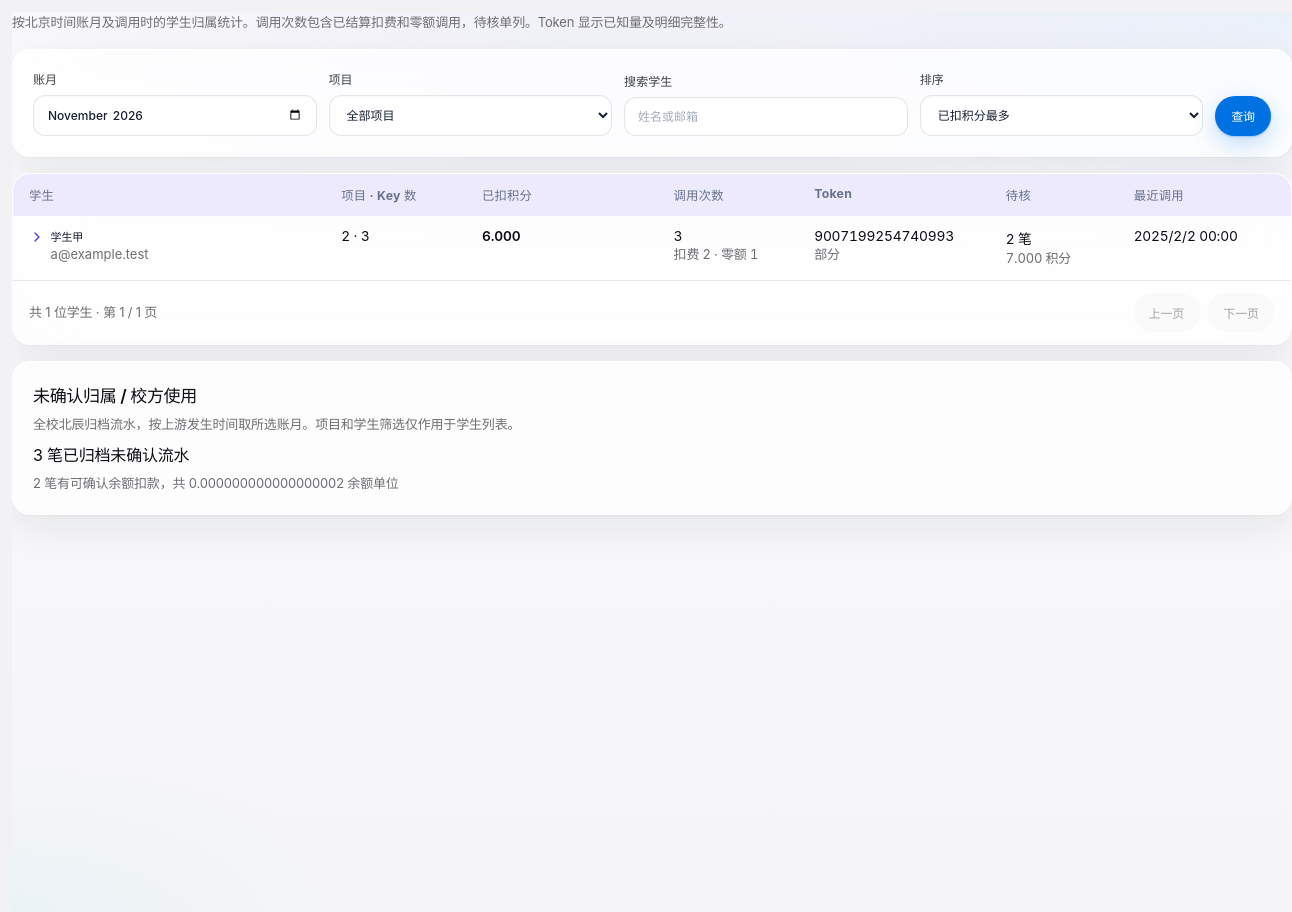
Test case: 先显示两项目的三把 Key，共用的模型仍各自计费，60 秒后刷新列表和展开的明细
The image size is (1292, 912).
Click the button with class "student-button".
click(67, 237)  # box x1=29 y1=228 x2=324 y2=264
Wait 60000 ms
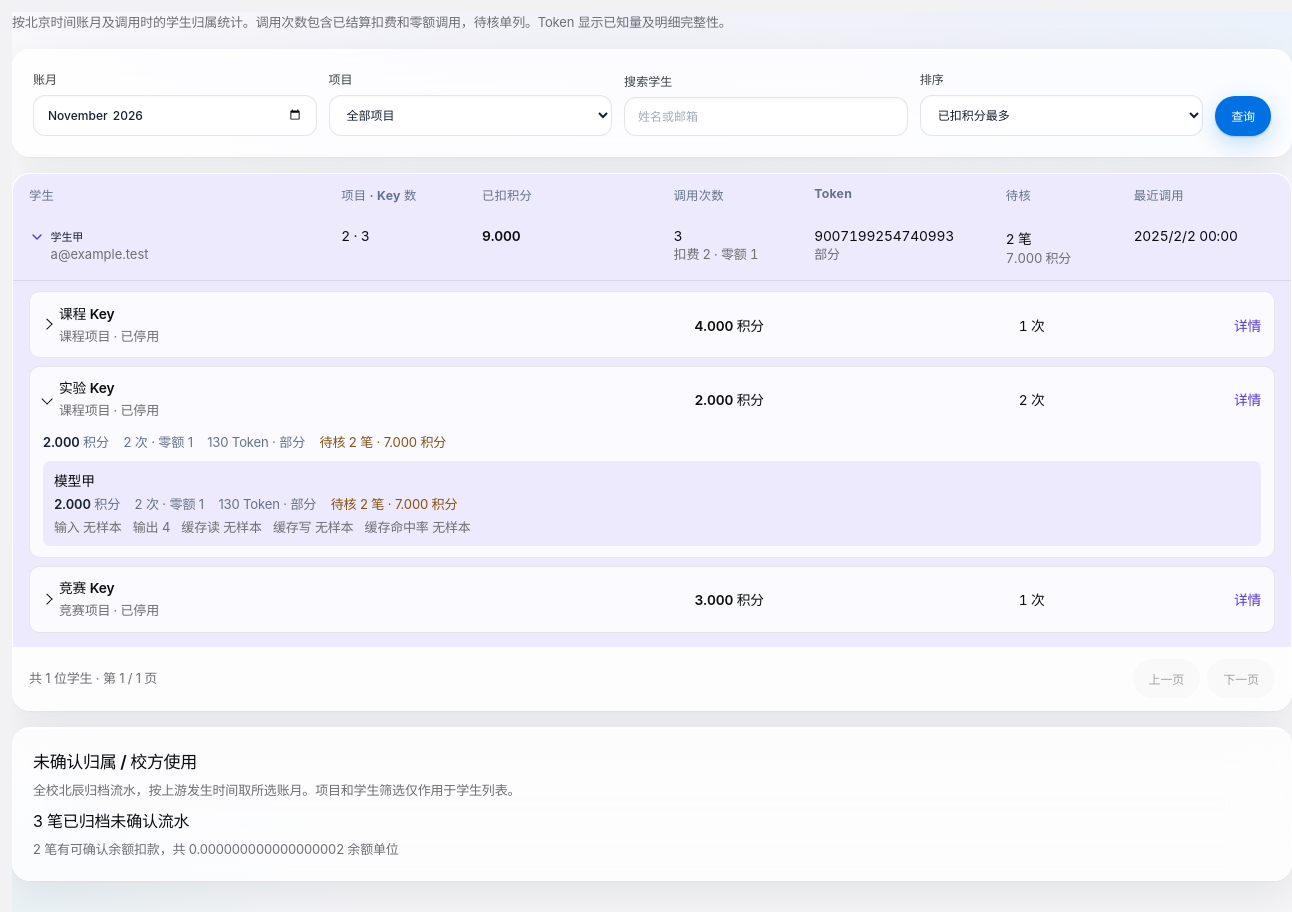
Check: the element with class "model-list" does not show "3.000 积分"
Check: the row with class "student-row" shows "9.000", box x1=482 y1=228 x2=520 y2=244
Check: the heading "课程 Key 课程项目 · 已停用 4.000 积分 1 次 详情" is shown, box x1=59 y1=306 x2=1261 y2=344
